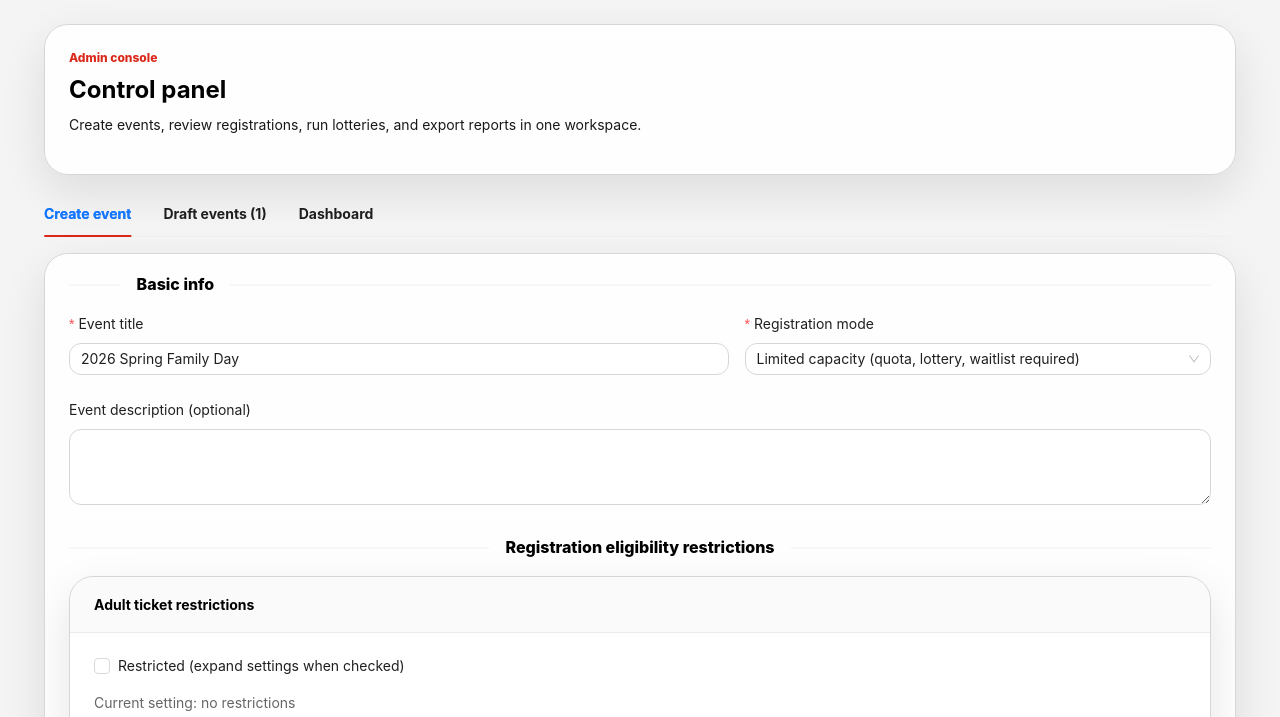
Test: AdminConsolePage › renders draft events tab when drafts exist
Expected: the text "Admin console" is shown, [69,50,157,65]
Click the tab "Draft events (1)": (215, 214) [163,203,267,225]
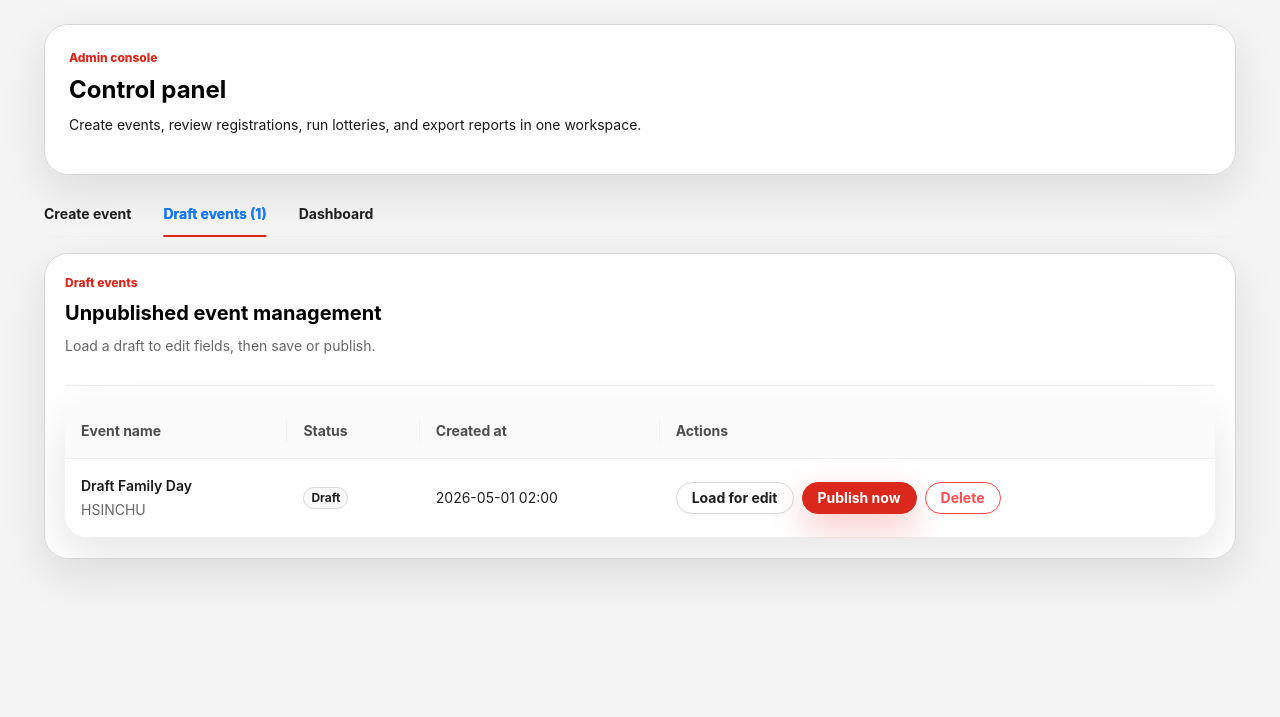
Now the text "Draft Family Day" is shown, box [81,477,192,494]
Now the text "Load for edit" is shown, box [692,489,778,506]
